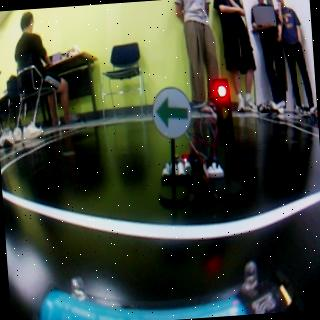left: (148, 86, 198, 150)
red: (209, 76, 240, 203)
